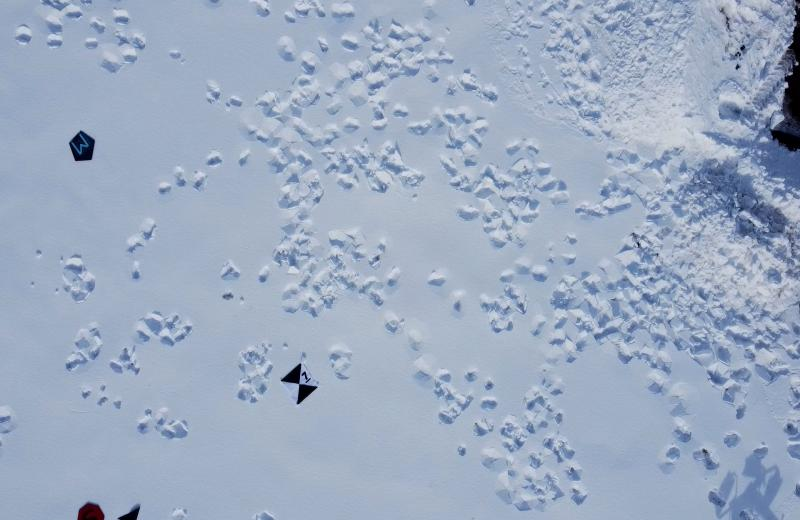Octagon: (74, 498, 108, 520)
Pentagon: (67, 126, 99, 166)
